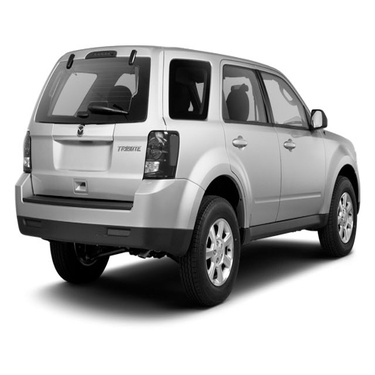car: (13, 28, 365, 313)
